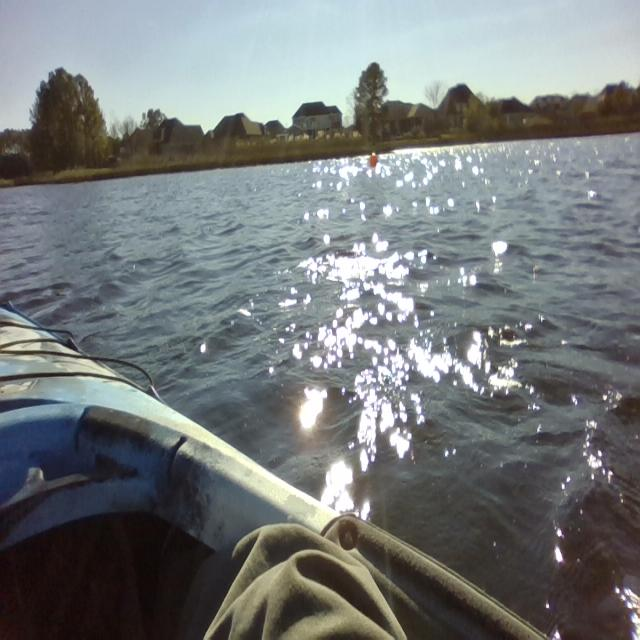Buoy: (367, 146, 381, 172)
